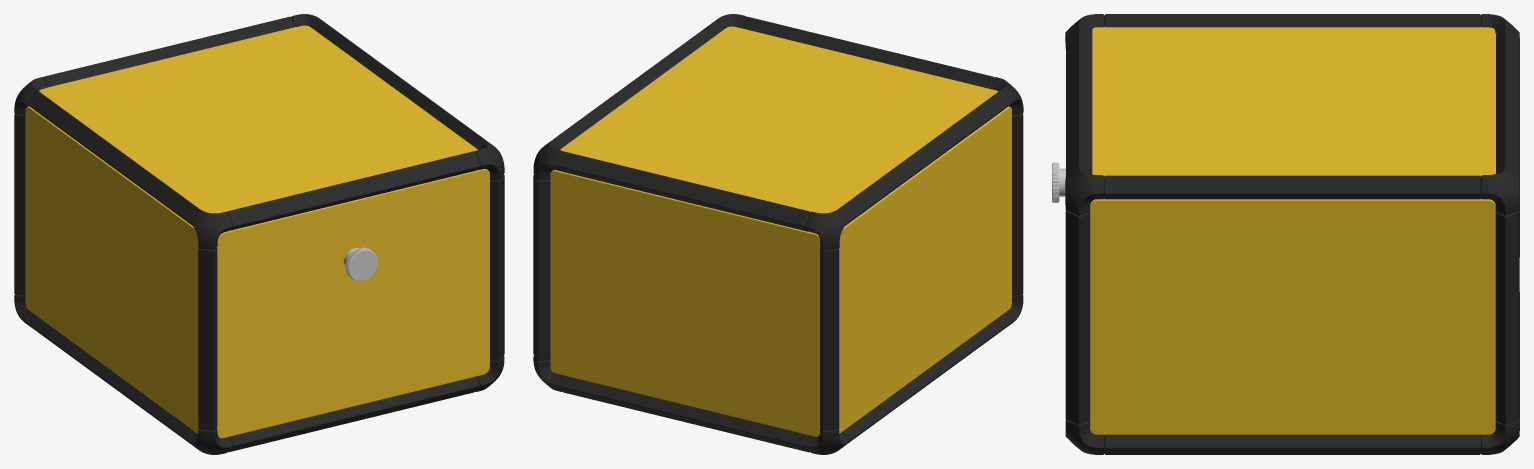
3 renders of one model, left to right at view 1: azimuth 30°, elevation 25°; view 2: azimuth 150°, elevation 25°; view 3: azimuth 270°, elevation 25°, orthographic. The views are drawn at different scales.
Visible parts, largest first — view 1: 329x374x229; view 2: 329x374x229; view 3: 329x374x229.
Part boxes in pixels (x1=…): 329x374x229: x1=14, y1=14, x2=504, y2=454; 329x374x229: x1=533, y1=14, x2=1023, y2=454; 329x374x229: x1=1052, y1=14, x2=1519, y2=454.
Size of the model in its own units: 0.4067 by 0.3066 by 0.4646.
